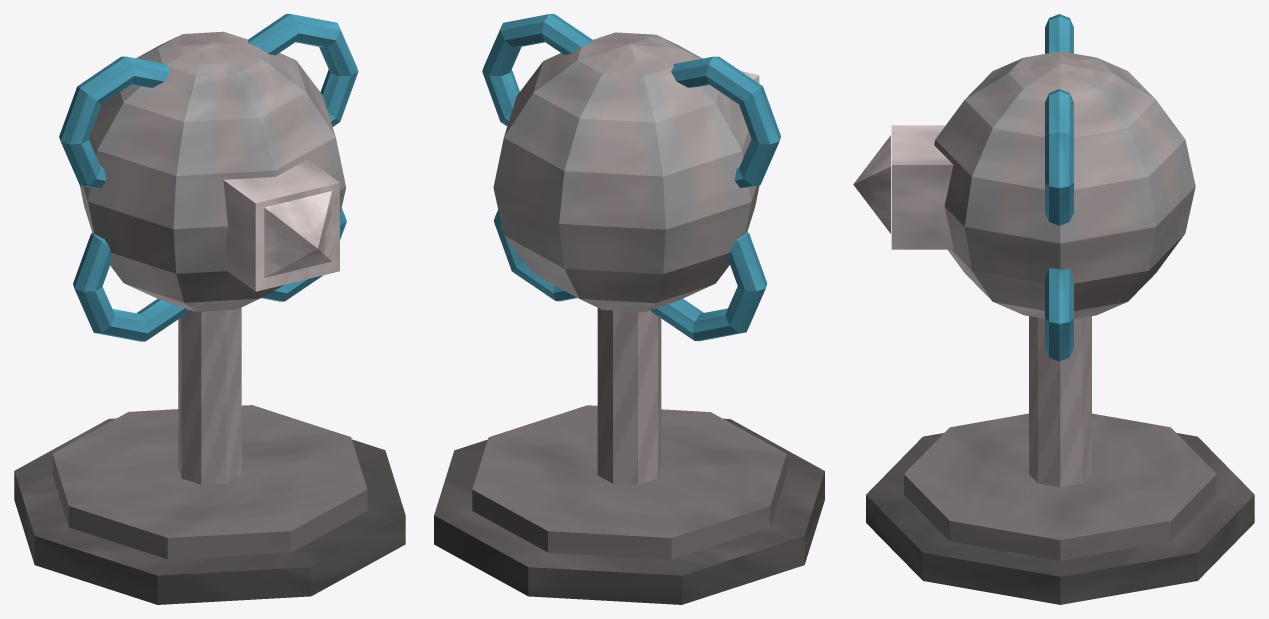
Rendered from Emitter.fbx.
3 views of the same model, side by side, from view 1: azimuth 30°, elevation 25°; view 2: azimuth 150°, elevation 25°; view 3: azimuth 270°, elevation 25° (orthographic). The views are drawn at different scales.
Parts seen in each view (by area): view 1: Cylinder; view 2: Cylinder; view 3: Cylinder.
Boxes of the visible parts, left/top/right/bottom form: Cylinder: left=14, top=14, right=405, bottom=604; Cylinder: left=434, top=14, right=824, bottom=604; Cylinder: left=853, top=14, right=1254, bottom=604.
Size of the model in its own units: 200 by 266 by 207.
